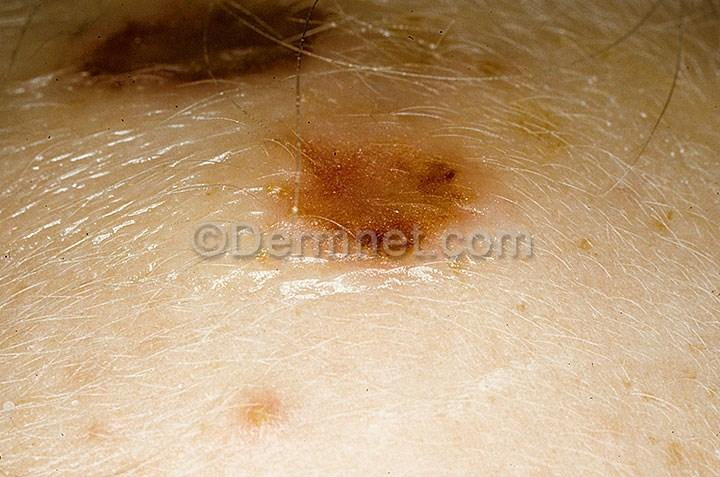Eczema: (253, 116, 507, 236), (232, 387, 296, 440)
